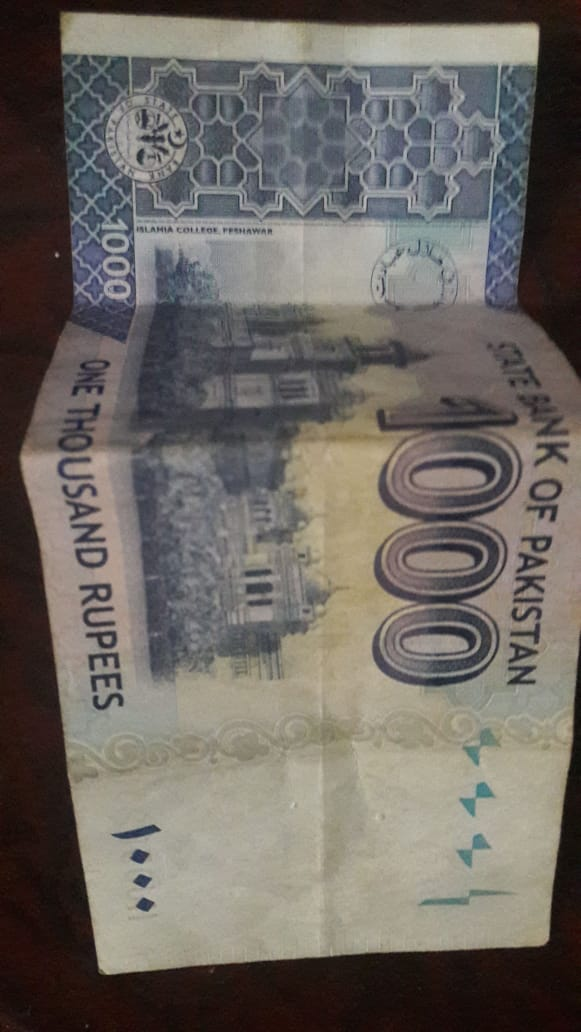1000 rupee: (16, 13, 567, 997)
